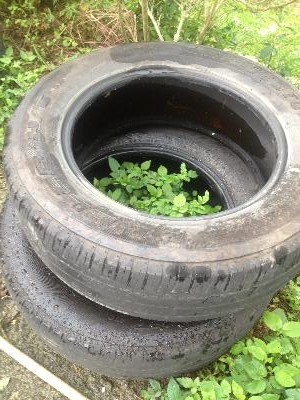tire: (1, 40, 300, 312), (3, 116, 280, 380)
